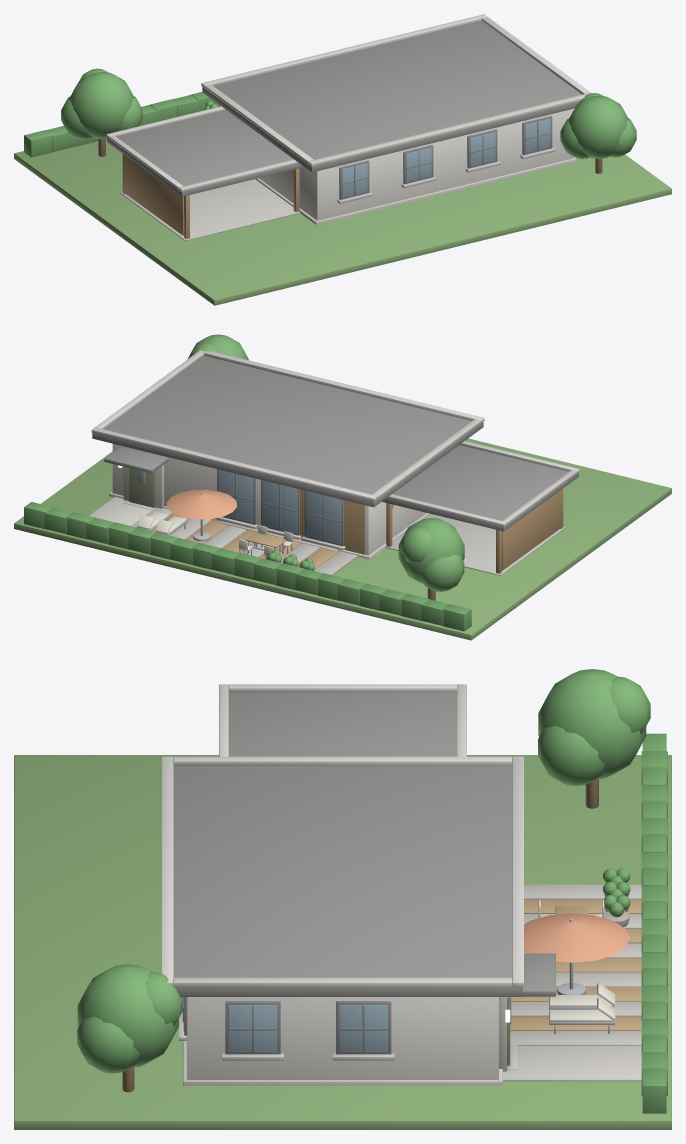
File: th22_bungalow.glb
The picture shows the model from 3 angles, top to bottom: view 1: azimuth 30°, elevation 25°; view 2: azimuth 150°, elevation 25°; view 3: azimuth 270°, elevation 25°; orthographic projection. The views are drawn at different scales.
Parts seen in each view (by area): view 1: Cube, Cube.038, Cube.035, Cube.096, Cube.109, Sphere.012, Sphere.016, Cube.110, Cube.040, Cube.039, Cube.036, Cube.041 (+14 smaller); view 2: Cube.038, Cube, Cube.096, Cube.035, Cube.110, Cube.109, Cube.040, Cube.039, Sphere.012, Cone, Cube.044, Cube.049 (+38 smaller); view 3: Cube, Cube.038, Cube.035, Cube.096, Sphere.012, Sphere.016, Cube.013, Cone, Cube.042, Cube.041, Sphere.014, Cube.040 (+23 smaller).
Boxes of the visible parts, x1,y1,x2,y2 form: Cube: [14, 139, 671, 305]; Cube.038: [202, 21, 581, 172]; Cube.035: [259, 109, 573, 220]; Cube.096: [107, 110, 303, 196]; Cube.109: [120, 179, 300, 240]; Sphere.012: [69, 71, 134, 139]; Sphere.016: [568, 95, 628, 158]; Cube.110: [124, 154, 183, 235]; Cube.040: [201, 14, 487, 88]; Cube.039: [308, 92, 591, 166]; Cube.036: [255, 157, 576, 224]; Cube.041: [205, 84, 313, 163]; Cube.038: [92, 356, 483, 507]; Cube: [14, 438, 671, 640]; Cube.096: [382, 445, 578, 531]; Cube.035: [112, 443, 426, 555]; Cube.110: [502, 489, 561, 570]; Cube.109: [385, 514, 565, 575]; Cube.040: [91, 427, 377, 501]; Cube.039: [199, 350, 484, 422]; Sphere.012: [398, 518, 464, 583]; Cone: [166, 489, 237, 519]; Cube.044: [306, 491, 341, 544]; Cube.049: [262, 480, 297, 533]; Cube: [14, 755, 671, 1129]; Cube.038: [173, 766, 522, 996]; Cube.035: [187, 997, 498, 1079]; Cube.096: [228, 692, 457, 756]; Sphere.012: [538, 669, 646, 779]; Sphere.016: [77, 964, 178, 1067]; Cube.013: [503, 1045, 641, 1081]; Cone: [524, 913, 629, 962]; Cube.042: [173, 977, 512, 987]; Cube.041: [173, 756, 512, 765]; Sphere.014: [538, 725, 605, 786]; Cube.040: [512, 756, 523, 987].
Bounding box in the file's own units: 25 × 4.5 × 19.
